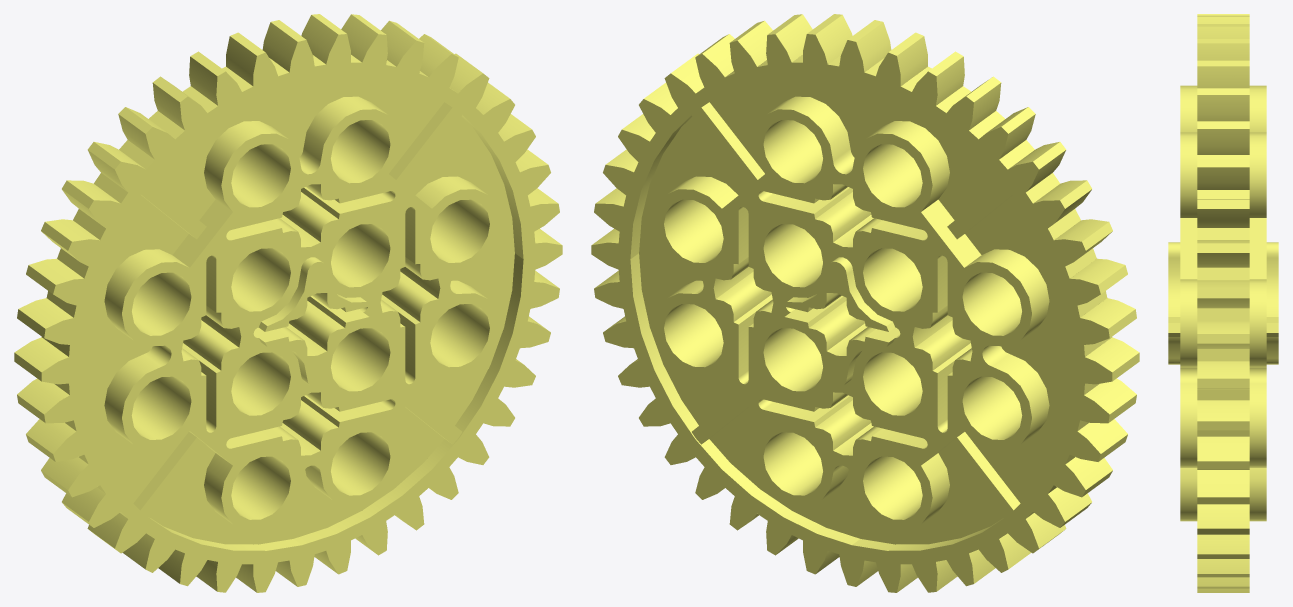
3 renders of one model, left to right at view 1: azimuth 30°, elevation 25°; view 2: azimuth 150°, elevation 25°; view 3: azimuth 270°, elevation 25°, orthographic. The views are drawn at different scales.
Parts seen in each view (by area): view 1: 3649.dat; view 2: 3649.dat; view 3: 3649.dat.
Boxes of the visible parts, x1,y1,x2,y2 form: 3649.dat: (14, 14, 562, 592); 3649.dat: (591, 14, 1139, 592); 3649.dat: (1168, 14, 1278, 592).
Size of the model in its own units: 0.0419 by 0.0419 by 0.008.
